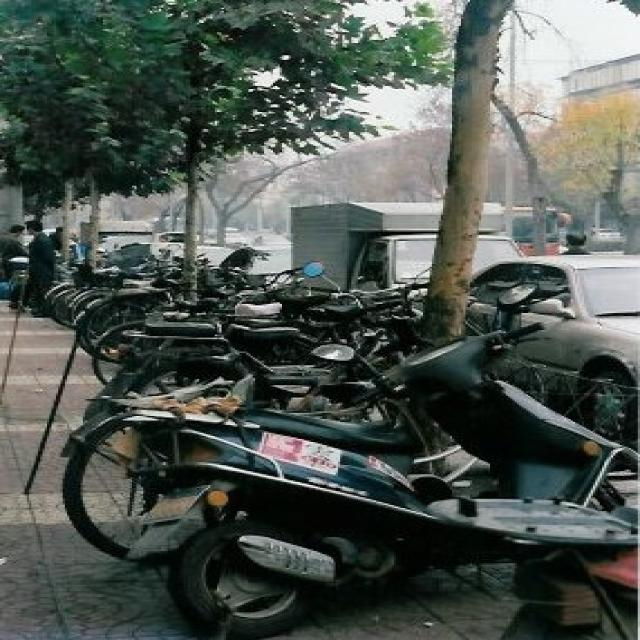motor: (115, 324, 629, 619), (86, 319, 640, 590), (305, 263, 439, 370), (225, 342, 398, 419), (47, 256, 169, 327), (217, 258, 294, 297)
